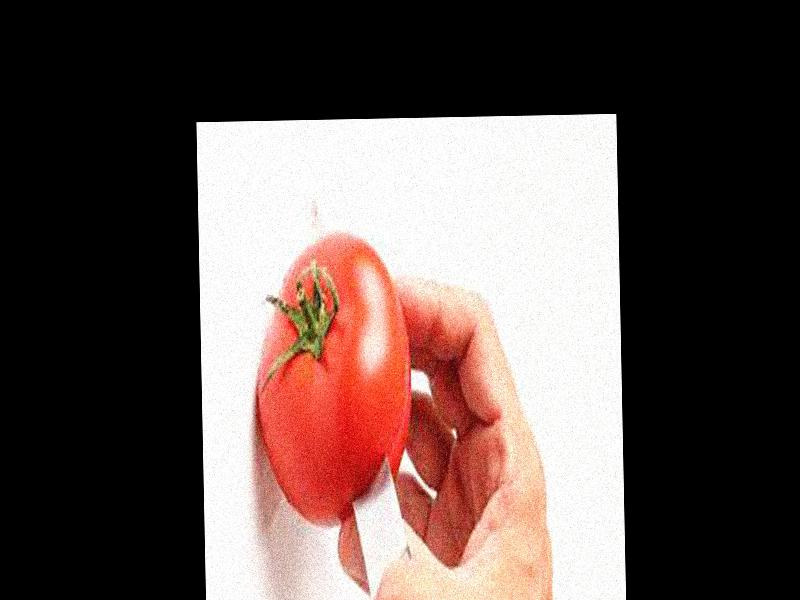Tomato: (254, 237, 414, 527)
